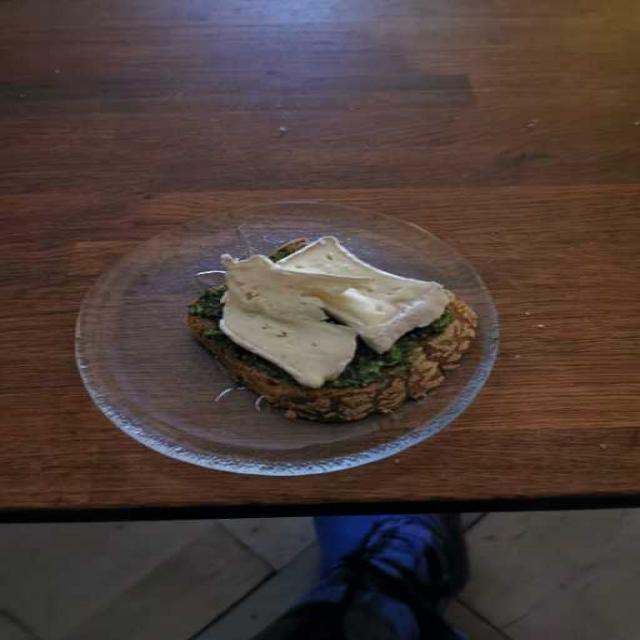bread: (194, 238, 473, 407)
